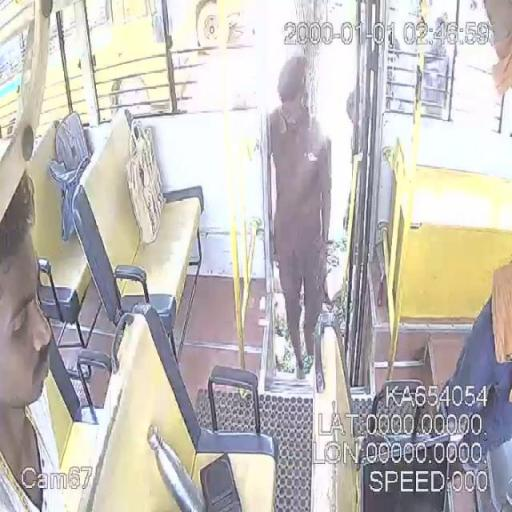persona: (0, 169, 68, 511), (264, 54, 334, 380), (434, 260, 512, 510)
